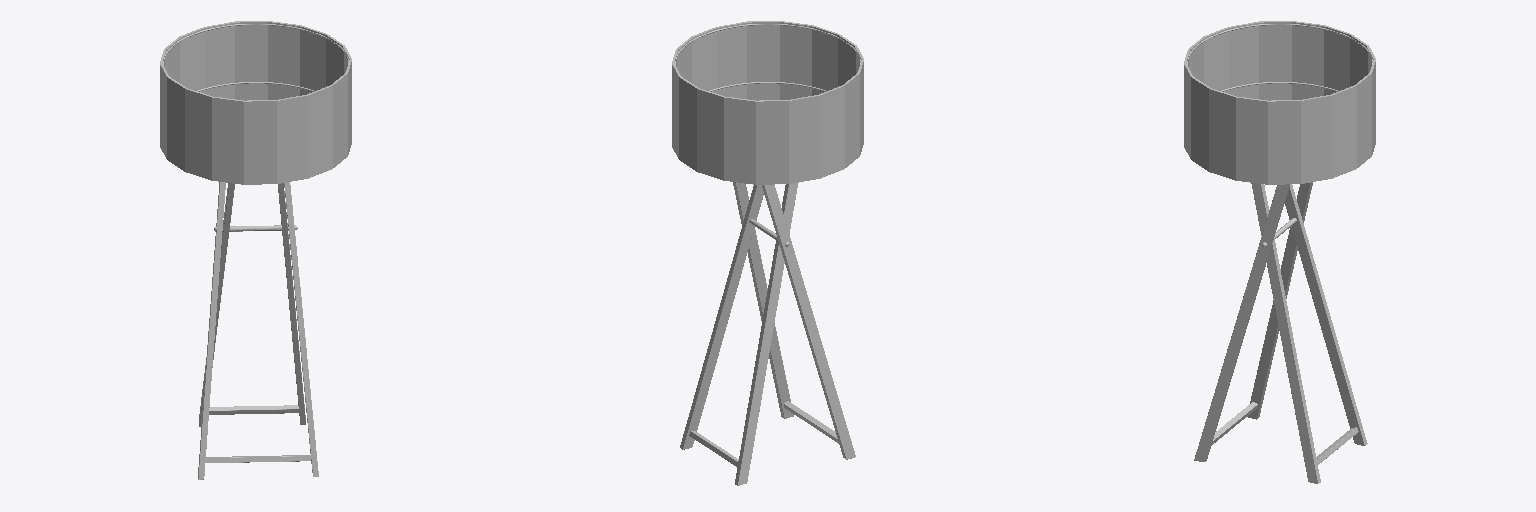
File: lampada.obj
3 views of the same model, side by side, from view 1: azimuth 30°, elevation 25°; view 2: azimuth 150°, elevation 25°; view 3: azimuth 270°, elevation 25° (orthographic).
Parts seen in each view (by area): view 1: Lamp.3; view 2: Lamp.3; view 3: Lamp.3.
Part boxes in pixels (x1,y1,x2,y2): Lamp.3: (160,21,351,479); Lamp.3: (672,21,863,485); Lamp.3: (1184,21,1375,483).
Size of the model in its own units: 70.87 by 159 by 71.37.